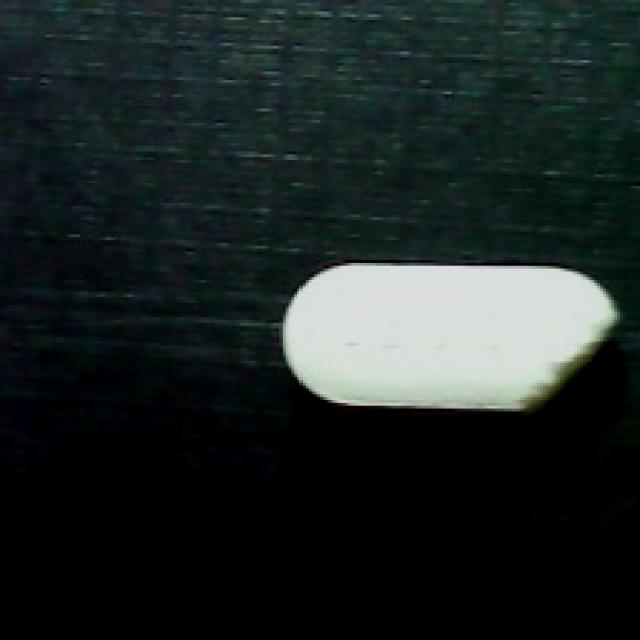defected: (277, 251, 626, 426)
